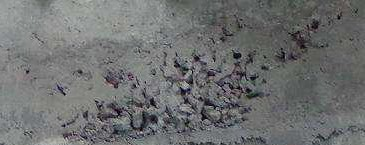Spalling: (55, 1, 358, 145)
